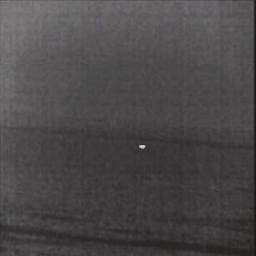Target: (137, 143, 147, 150)
